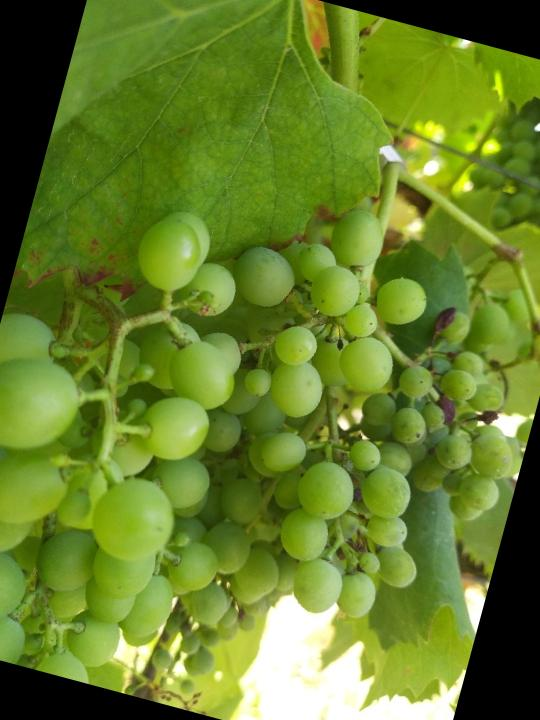grape: (0, 179, 298, 704), (216, 202, 540, 652)
